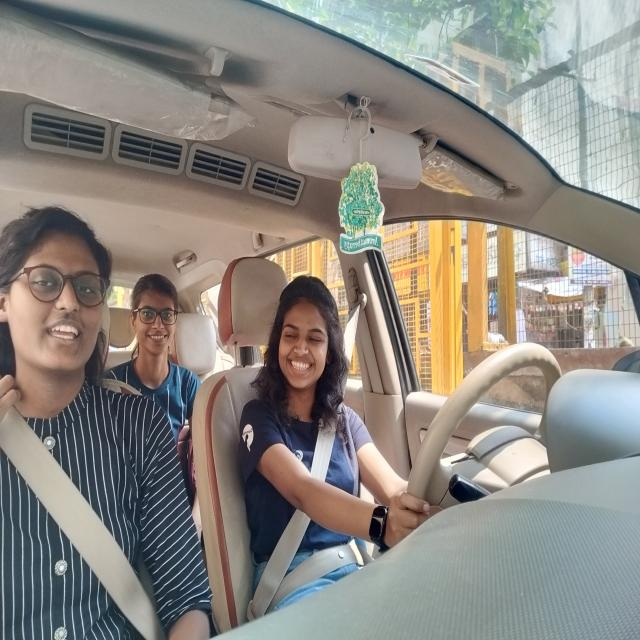drowsy: (267, 275, 341, 403)
person: (0, 205, 113, 376), (127, 272, 180, 357)
